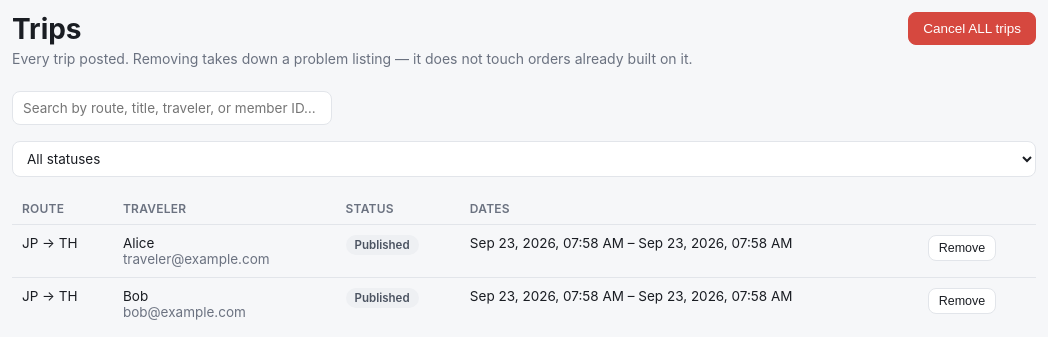
it: TripsPage filters › finds a trip by its traveler's membership ID
Expected: the text "Alice" is shown, 123,235 -> 154,251
Step 1. Type "H00000002" into the field with placeholder "Search by route, title, traveler, or member ID…" → x=172, y=108, box 12,91 -> 332,125
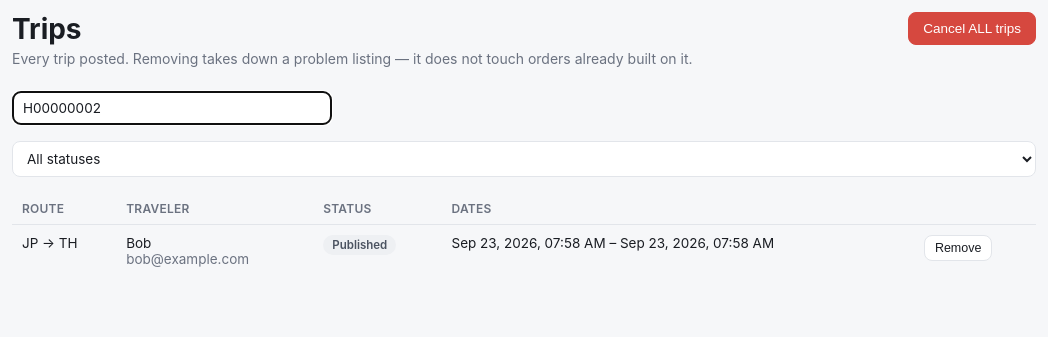
Expected: the text "Bob" is shown, 126,235 -> 151,251
Now the text "Alice" is gone
